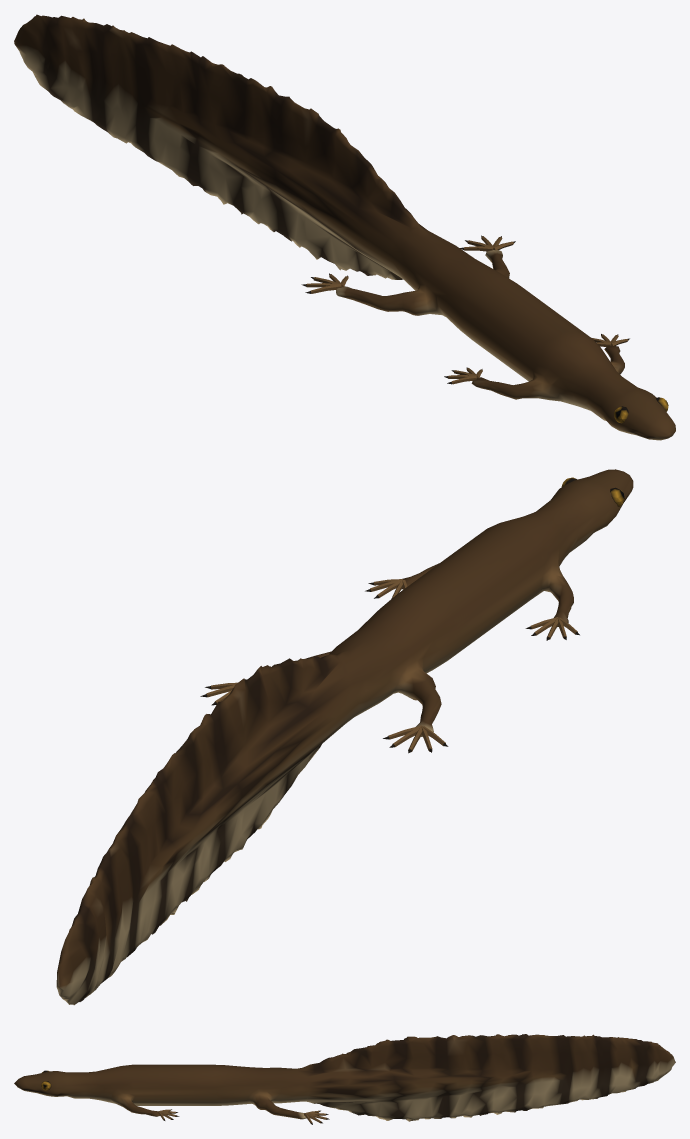
Rendered from Spinoaequalis.fbx.
3 views of the same model, one above another, from view 1: azimuth 30°, elevation 25°; view 2: azimuth 150°, elevation 25°; view 3: azimuth 270°, elevation 25° (orthographic). The views are drawn at different scales.
Parts seen in each view (by area): view 1: Spinoaequalis; view 2: Spinoaequalis; view 3: Spinoaequalis.
Boxes of the visible parts, box(x1,y1,x2,y2) form: Spinoaequalis: box(14, 14, 675, 440); Spinoaequalis: box(56, 469, 633, 1005); Spinoaequalis: box(14, 1034, 675, 1124).
Bounding box in the file's own units: 0.2454 × 0.1637 × 1.15.
